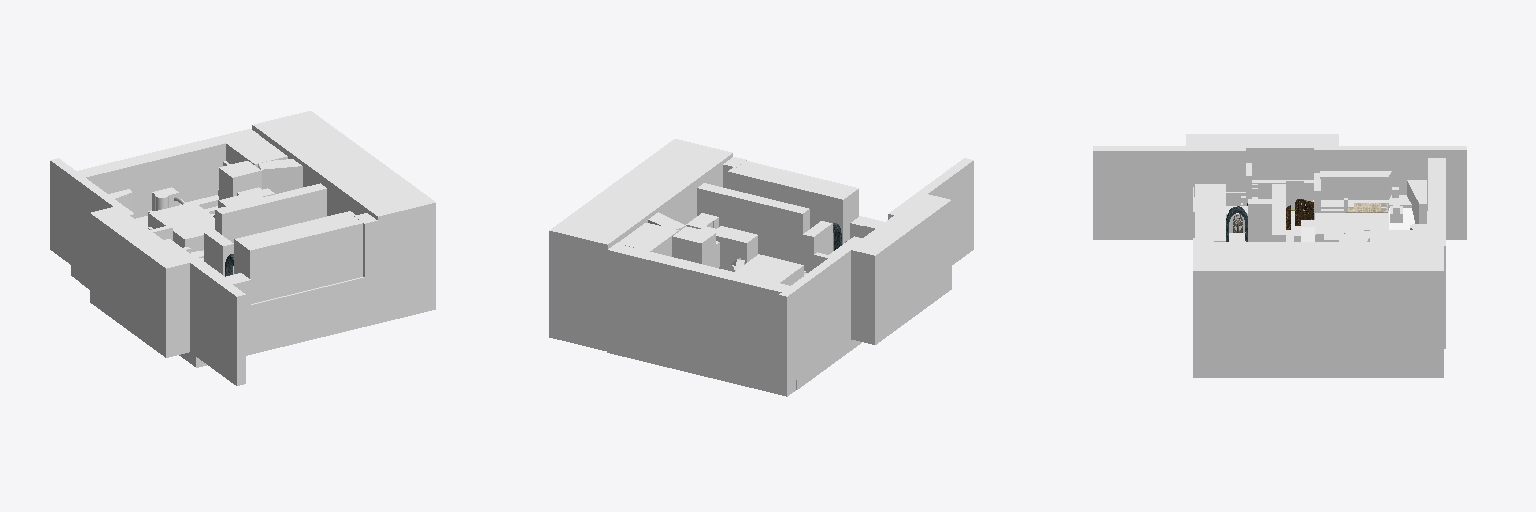
The picture shows the model from 3 angles: view 1: azimuth 30°, elevation 25°; view 2: azimuth 150°, elevation 25°; view 3: azimuth 270°, elevation 25°; orthographic projection.
Parts seen in each view (by area): view 1: Object.2, Object.3; view 2: Object.2, Object.3; view 3: Object.2, Object.3.
Part boxes in pixels (left/top/right/bottom): Object.2: left=71, top=111, right=435, bottom=367; Object.3: left=50, top=158, right=245, bottom=385; Object.2: left=549, top=139, right=883, bottom=396; Object.3: left=697, top=158, right=973, bottom=385; Object.2: left=1193, top=158, right=1445, bottom=377; Object.3: left=1093, top=134, right=1466, bottom=241.
Bounding box in the file's own units: 2973 × 1143 × 3512.
Materials: 26 (11 with a texture image).